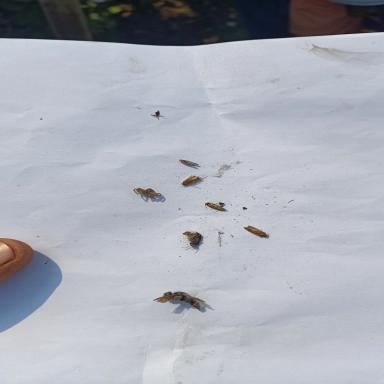pbw: (179, 173, 207, 189), (240, 225, 270, 238), (203, 199, 226, 213), (178, 158, 200, 167)
